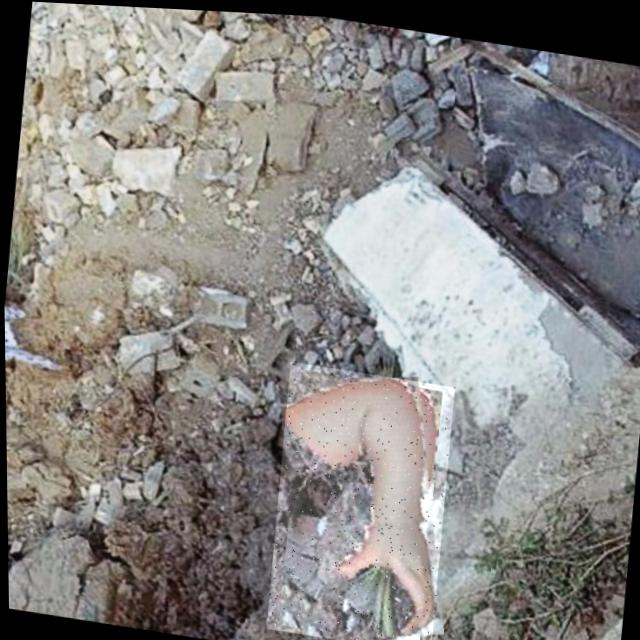Person in Rubble: (261, 356, 456, 640)
